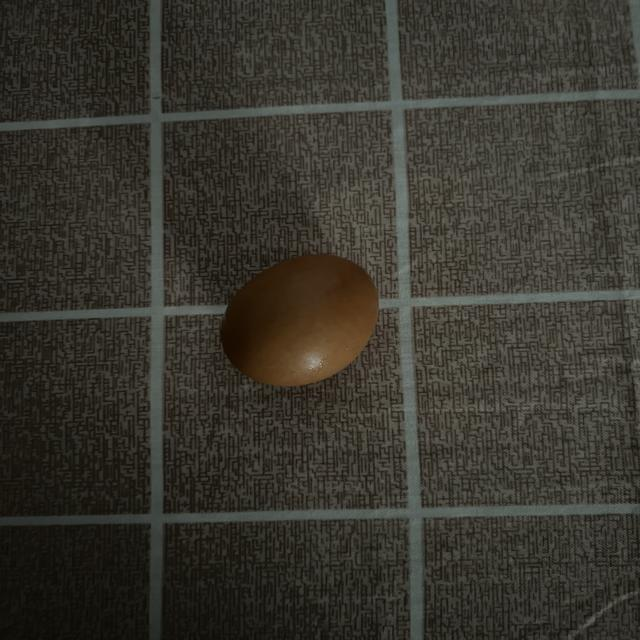Egg: (200, 245, 404, 401)
